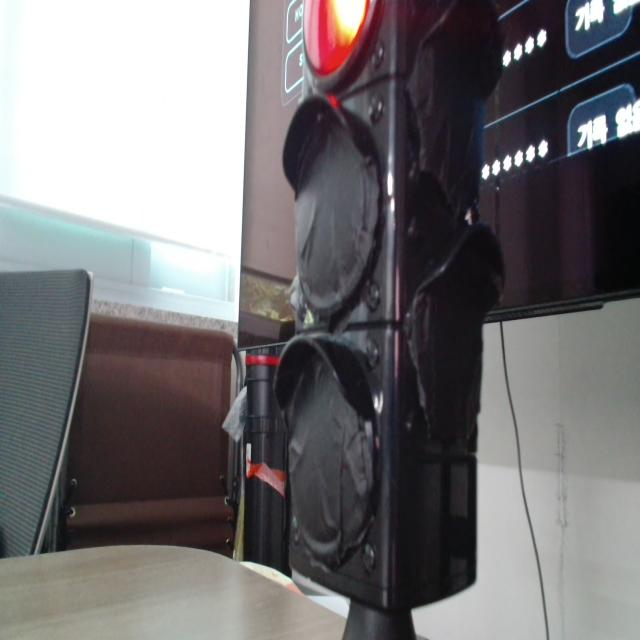red_light: (304, 0, 369, 75)
